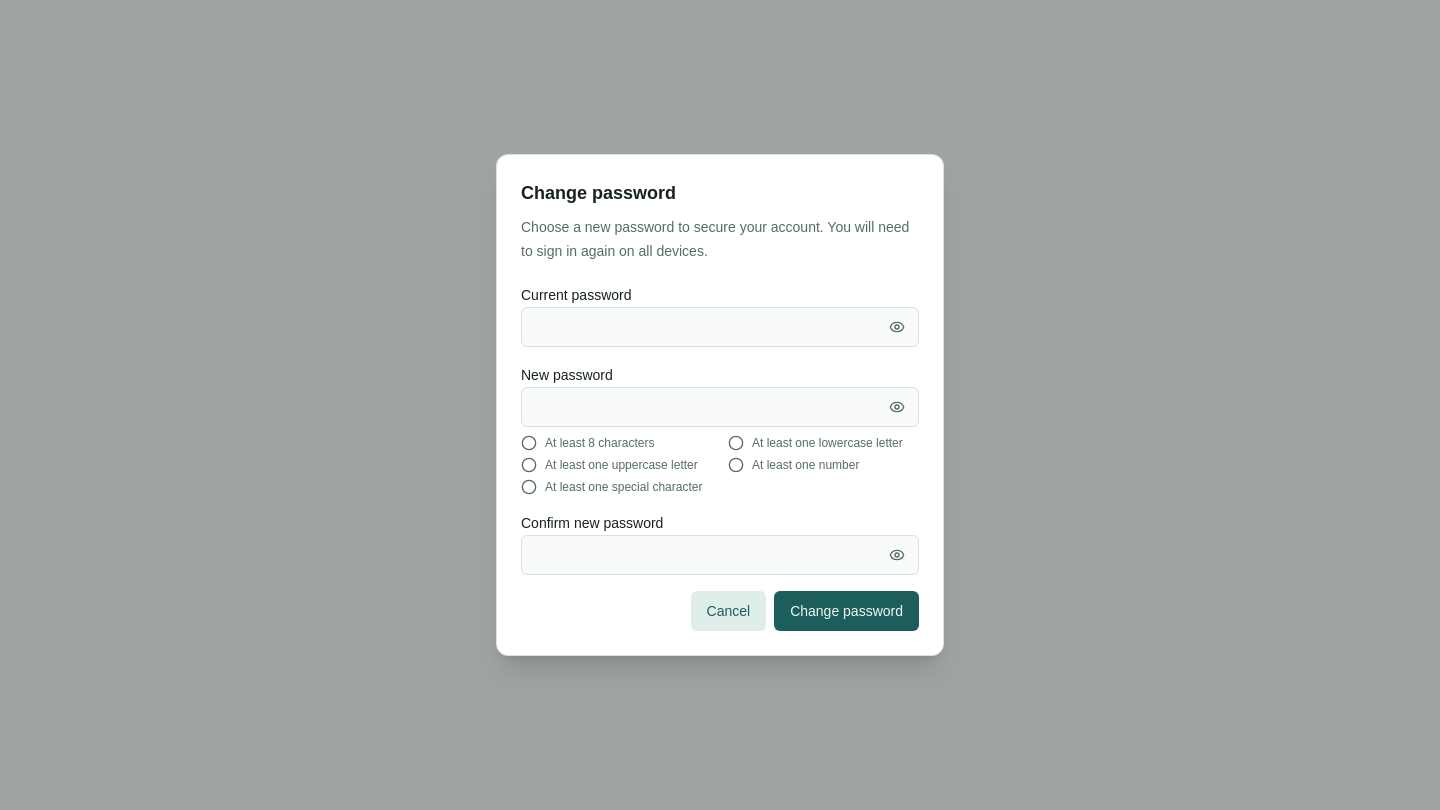
Test case: change password dialog › shows backend password validation errors beside the new password field
Type "Current1!" into the password field labelled "Current password" at (720, 327), box top-left (521, 307), bottom-right (919, 347)
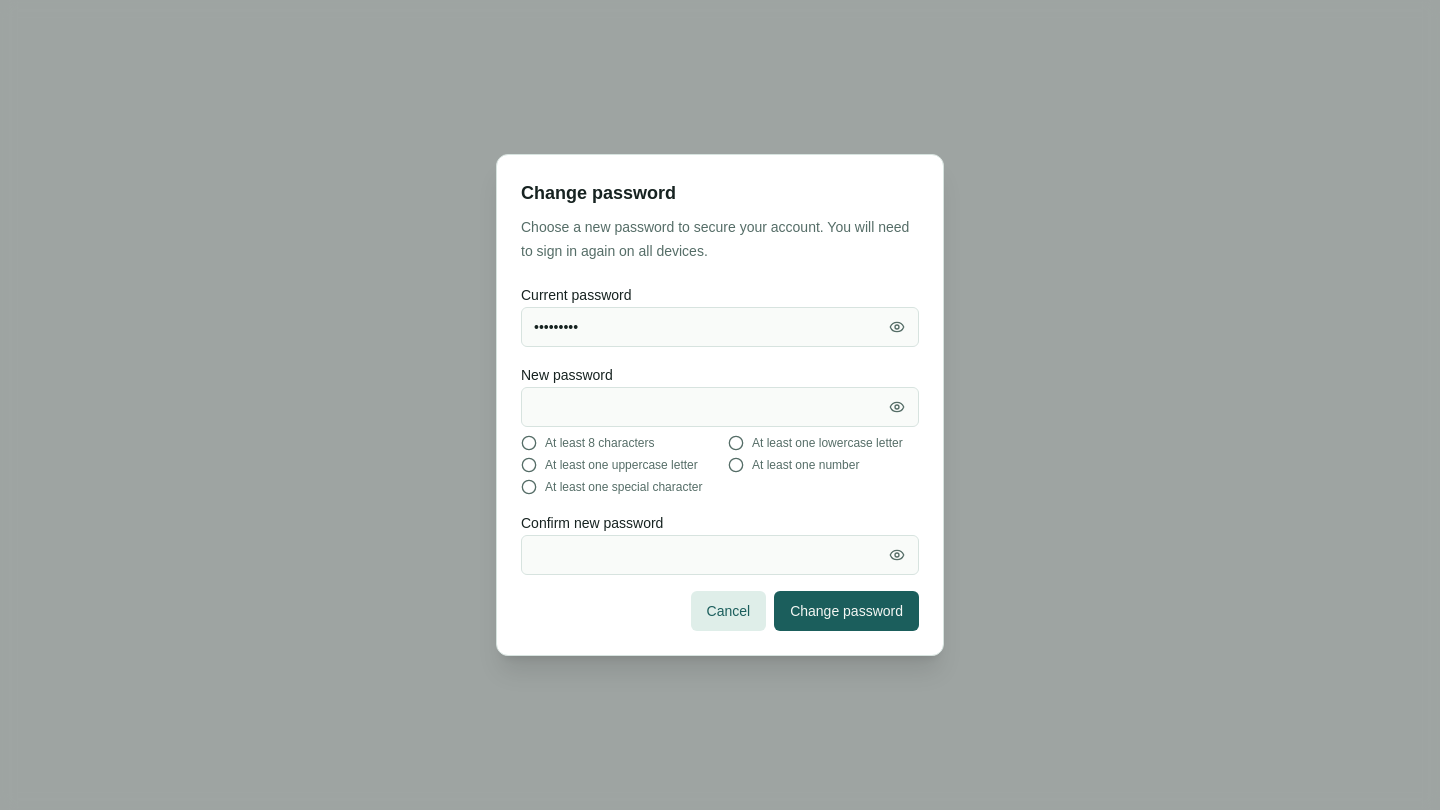
Type "Newpass2!" into the password field labelled "New password" at (720, 407), box top-left (521, 387), bottom-right (919, 427)
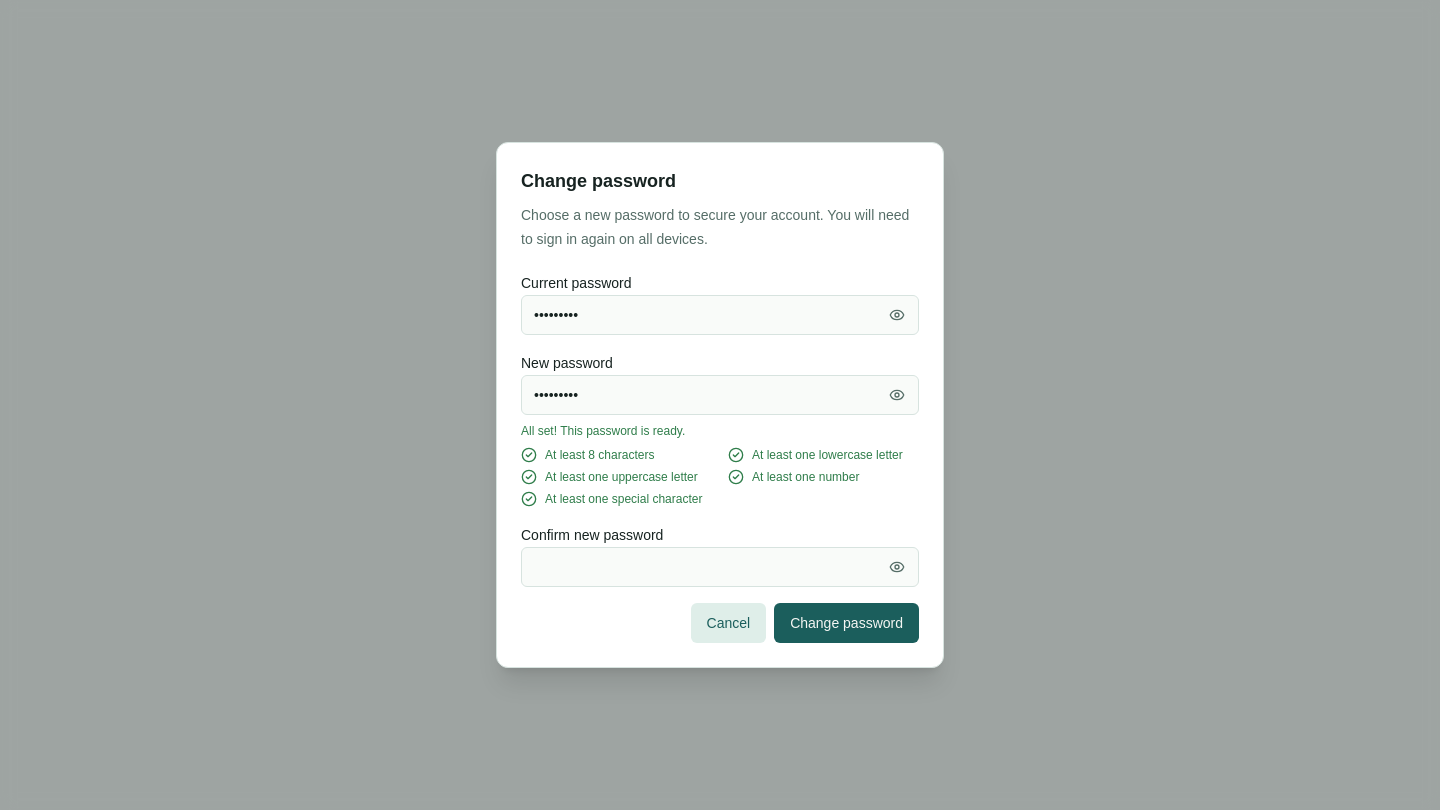
Type "Newpass2!" into the password field labelled "Confirm new password" at (720, 567), box top-left (521, 547), bottom-right (919, 587)
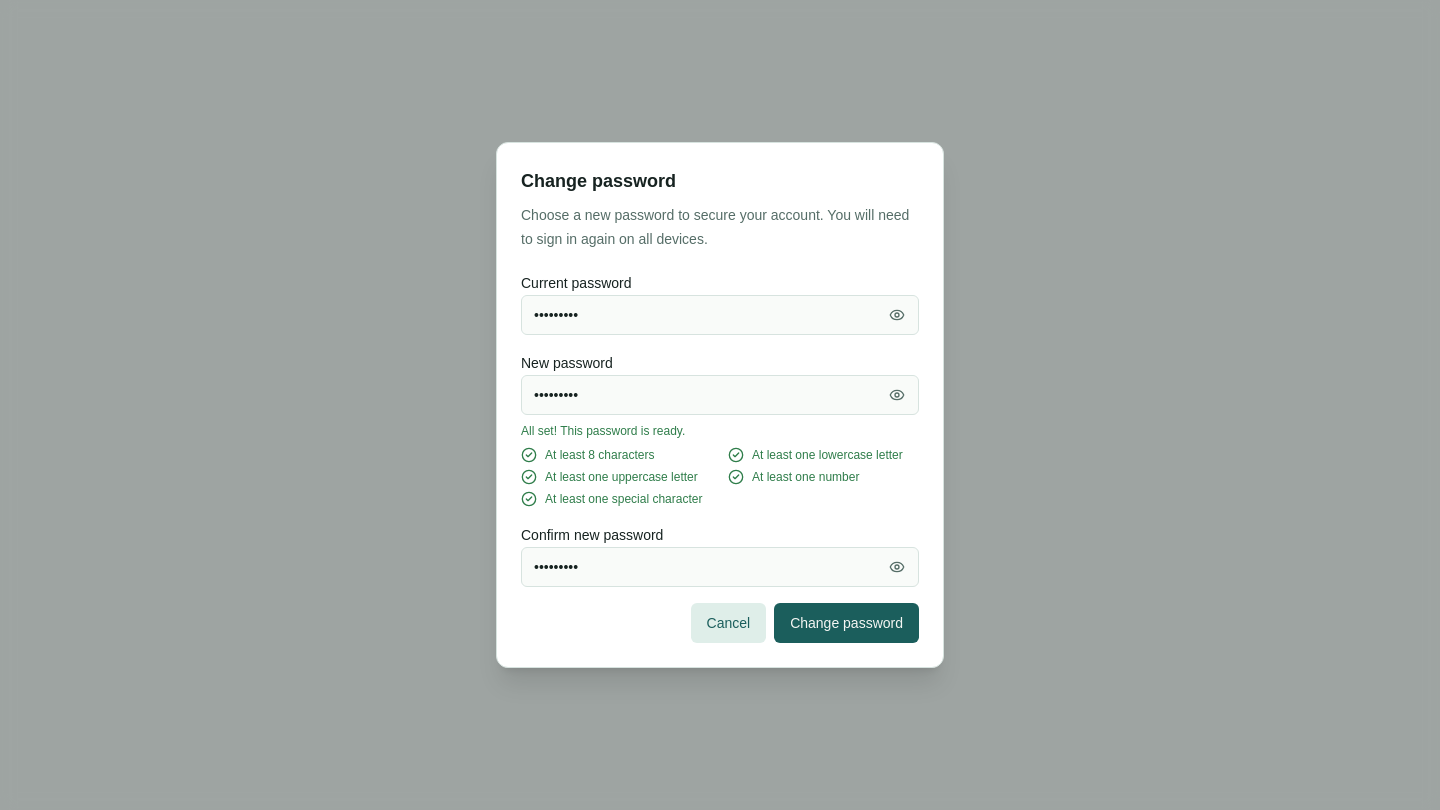
Click the button "Change password" at (847, 623), box top-left (774, 603), bottom-right (919, 643)
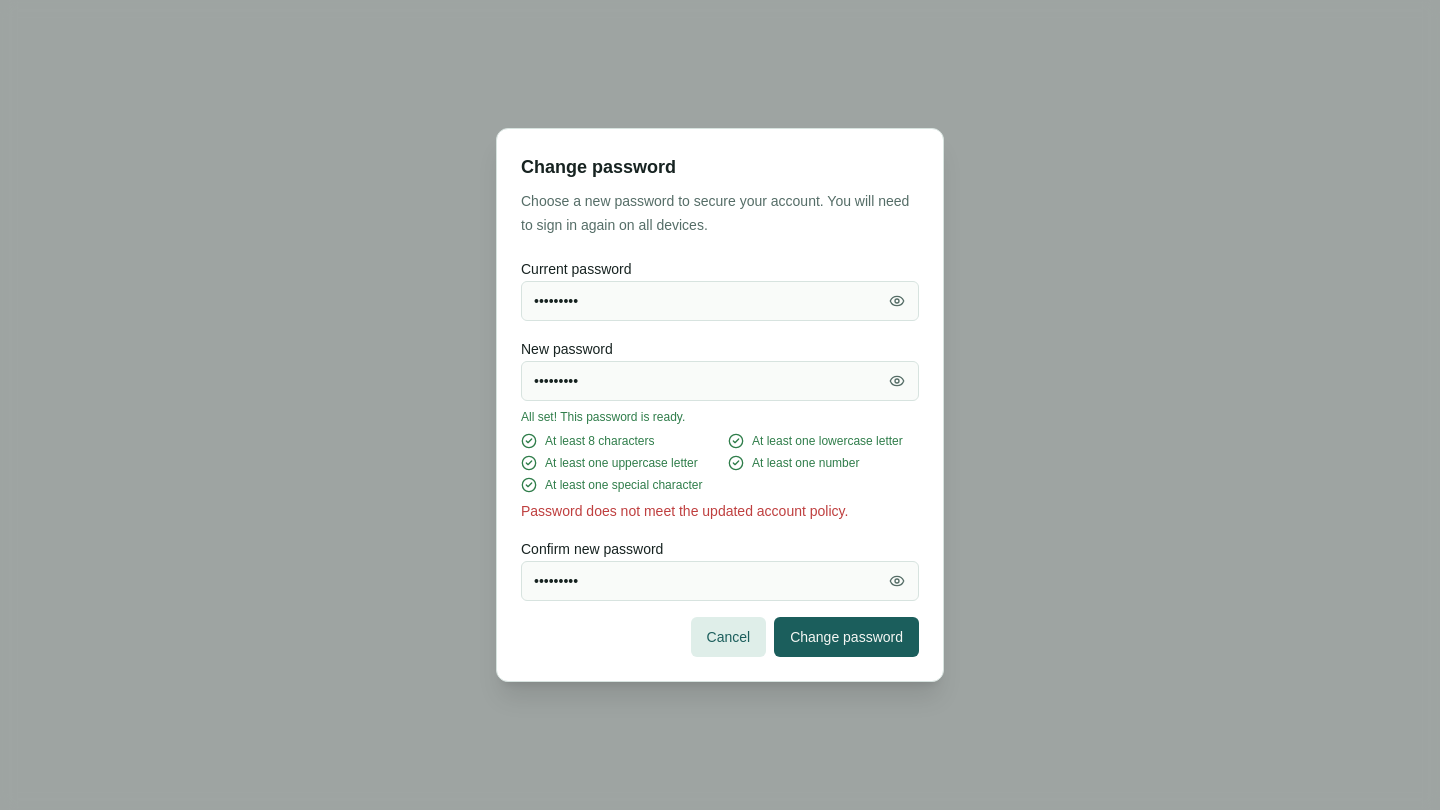
Now the text "Password does not meet the updated account policy." is shown, box top-left (521, 503), bottom-right (848, 519)
